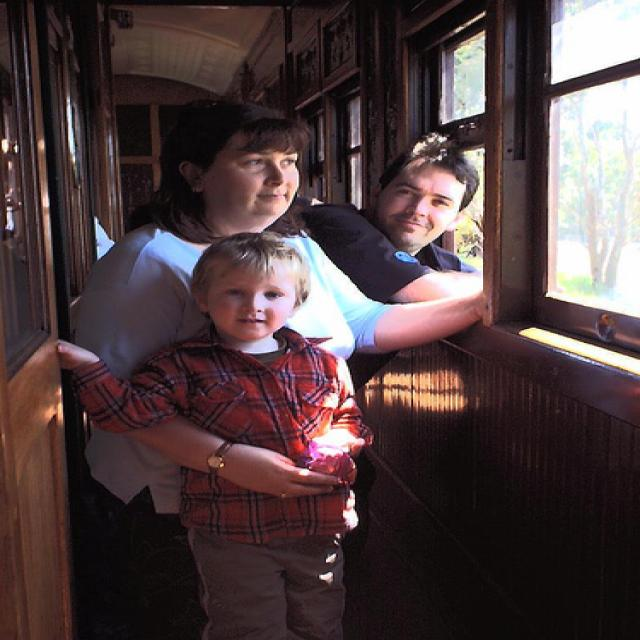adult: (39, 98, 368, 640), (59, 133, 492, 503)
child: (52, 231, 378, 640)
